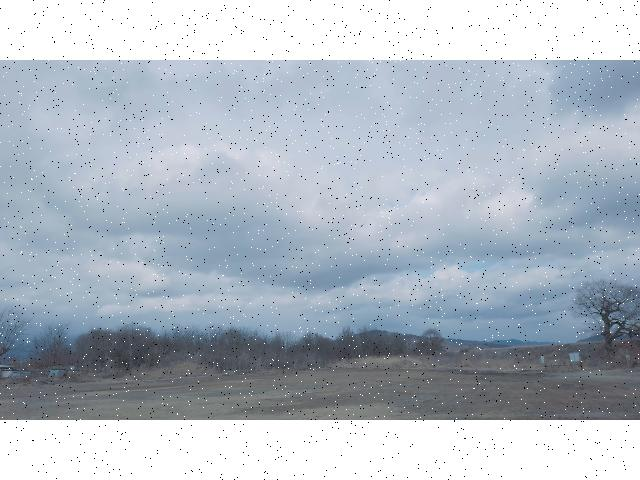Anti-Drone: (356, 219, 370, 231)
